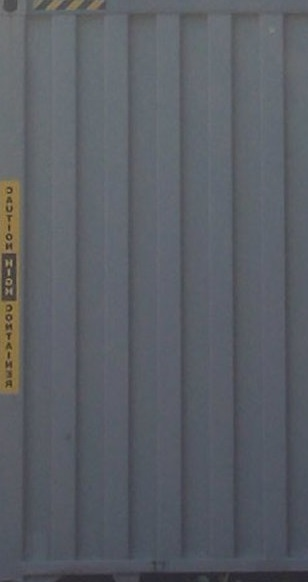container_no_door: (3, 1, 308, 564)
